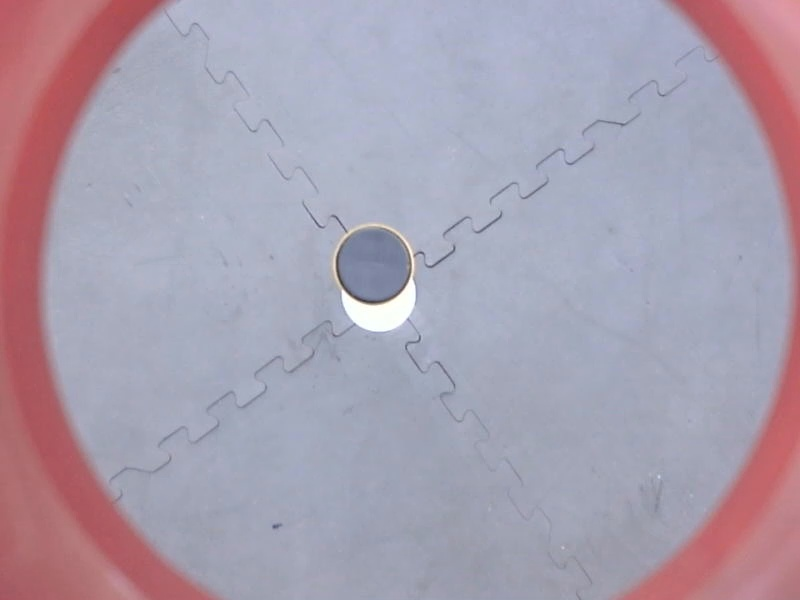tip: (328, 219, 420, 309)
